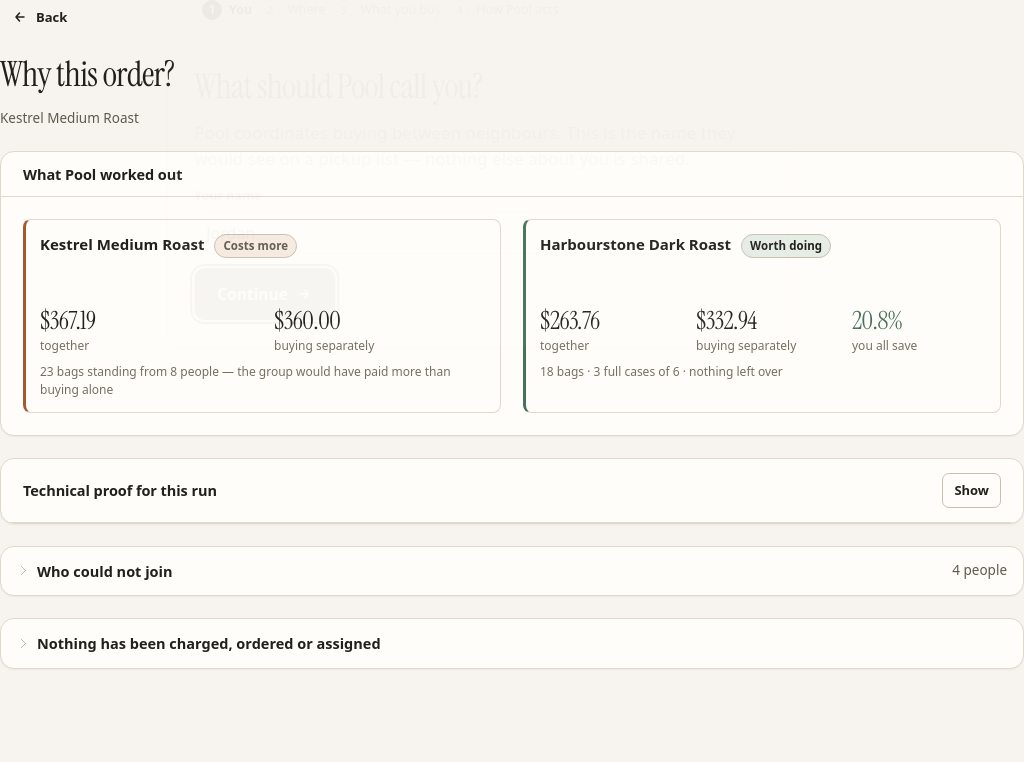
Scenario: what the declaration caused, afterwards › reaches the explanation and the proof from one server read
Expected: the text "Harbourstone Dark Roast" is shown, x1=540 y1=233 x2=731 y2=257
Expected: the text "Nothing has been charged, ordered or assigned" is shown, x1=37 y1=632 x2=381 y2=654
Click the button "Show" at (972, 490), box x1=942 y1=473 x2=1001 y2=508
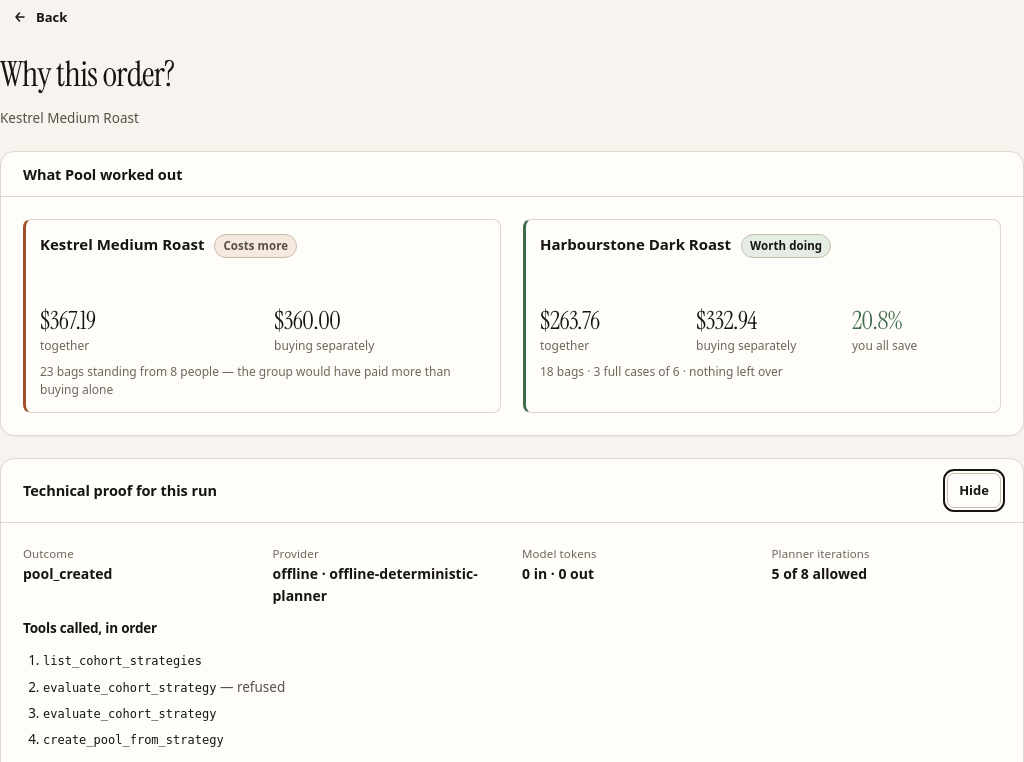
Now the text "Planner iterations" is shown, box x1=772 y1=546 x2=870 y2=561
